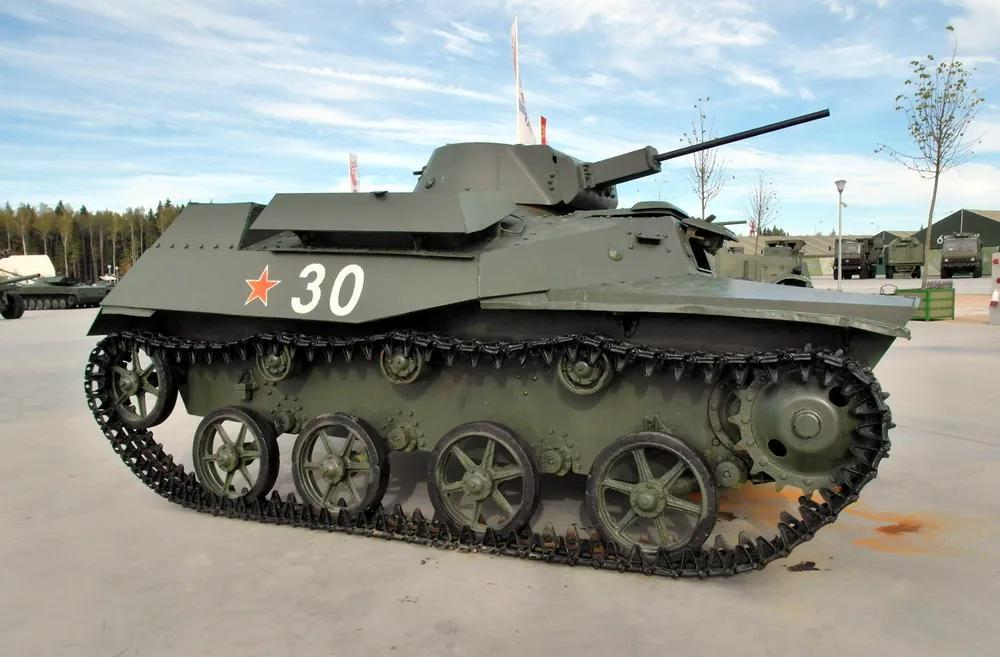MIL_IFV: (80, 104, 919, 579)
